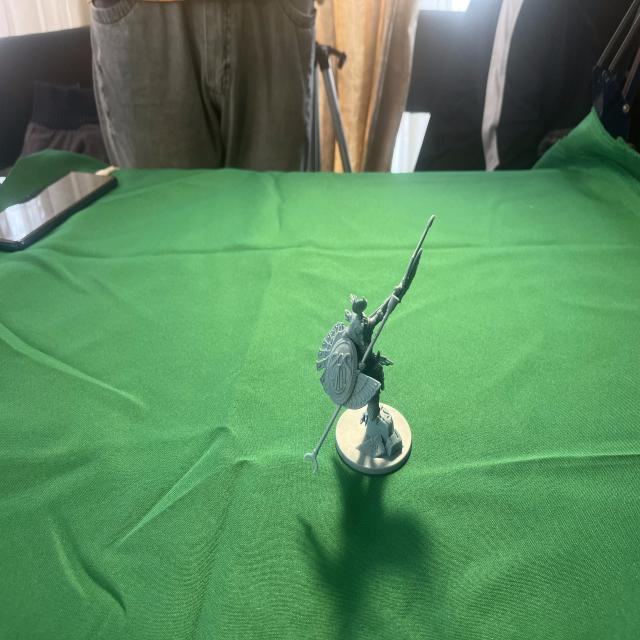isis: (294, 197, 452, 493)
